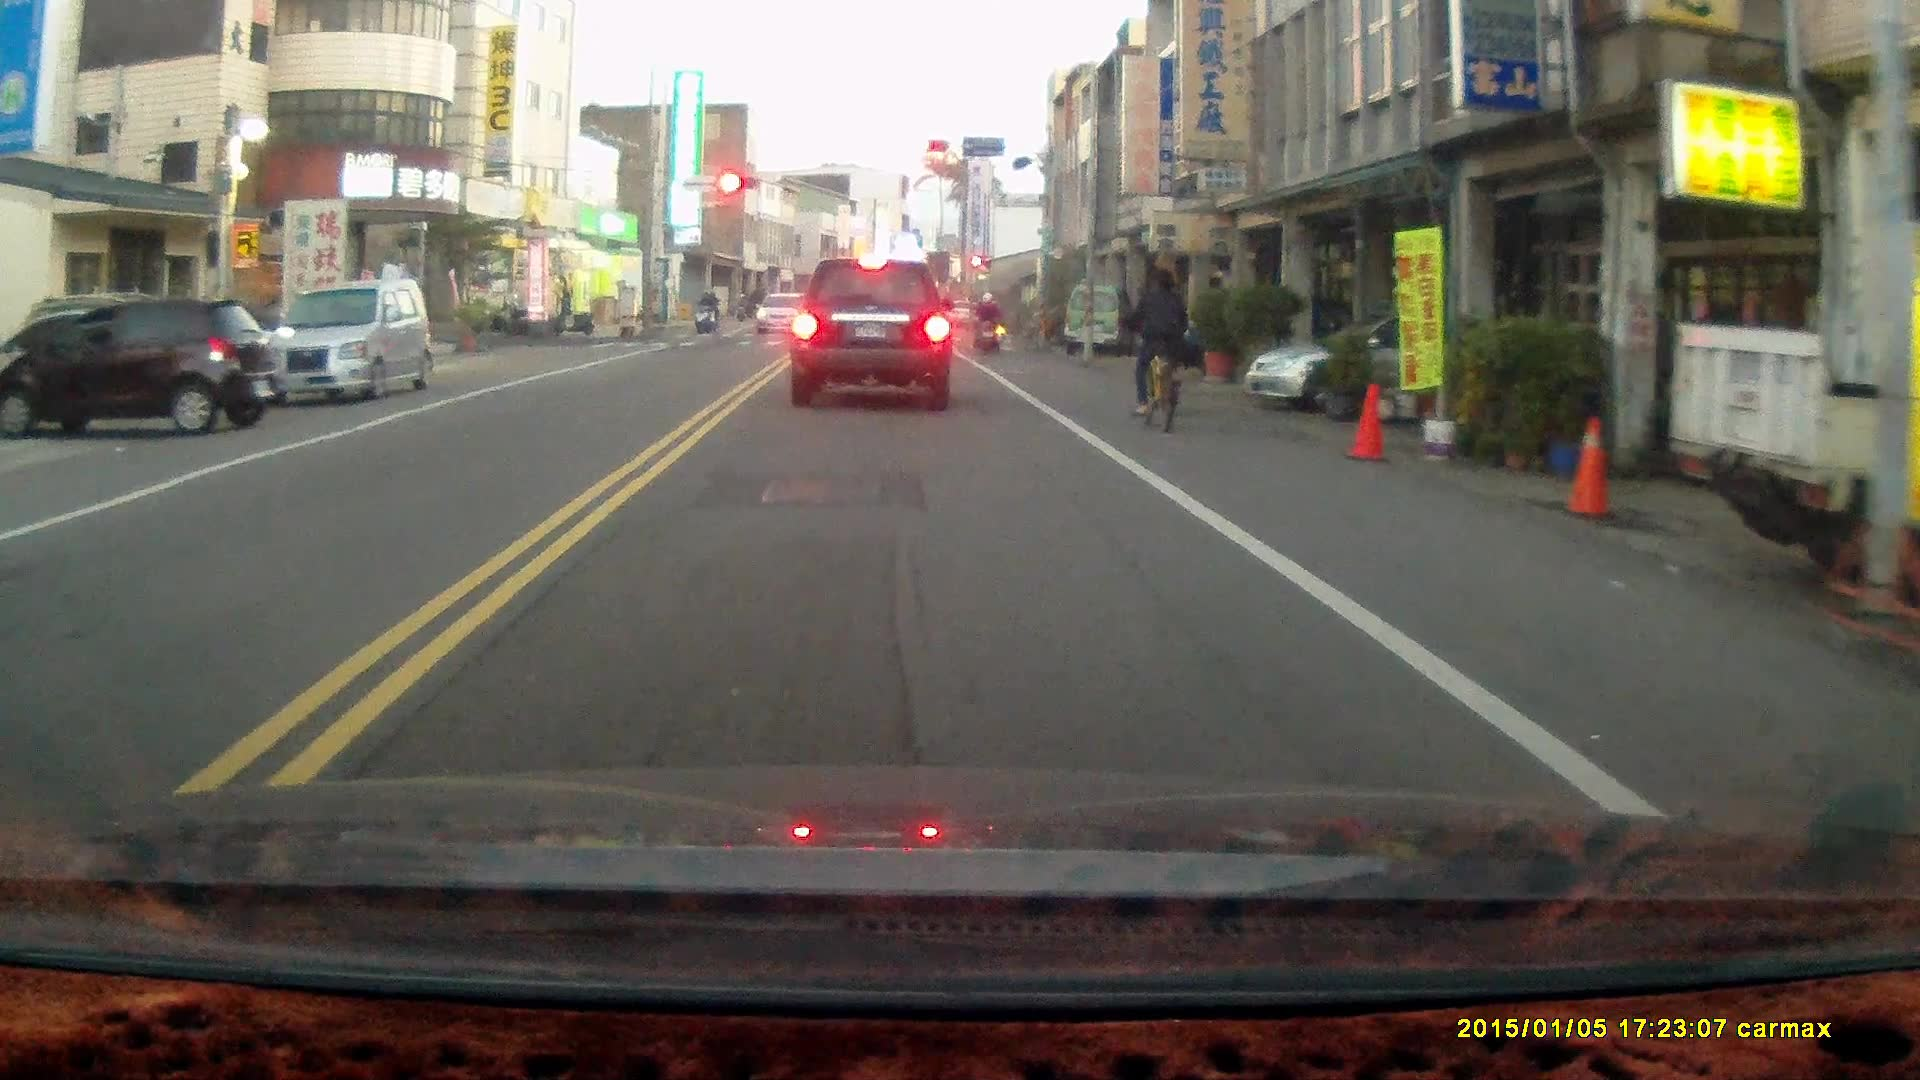rider: (1127, 266, 1191, 434), (969, 288, 1002, 354), (691, 287, 715, 335)
vehicle: (5, 295, 287, 441), (1240, 309, 1532, 416), (788, 257, 955, 413), (258, 280, 437, 404), (1063, 289, 1130, 363)
